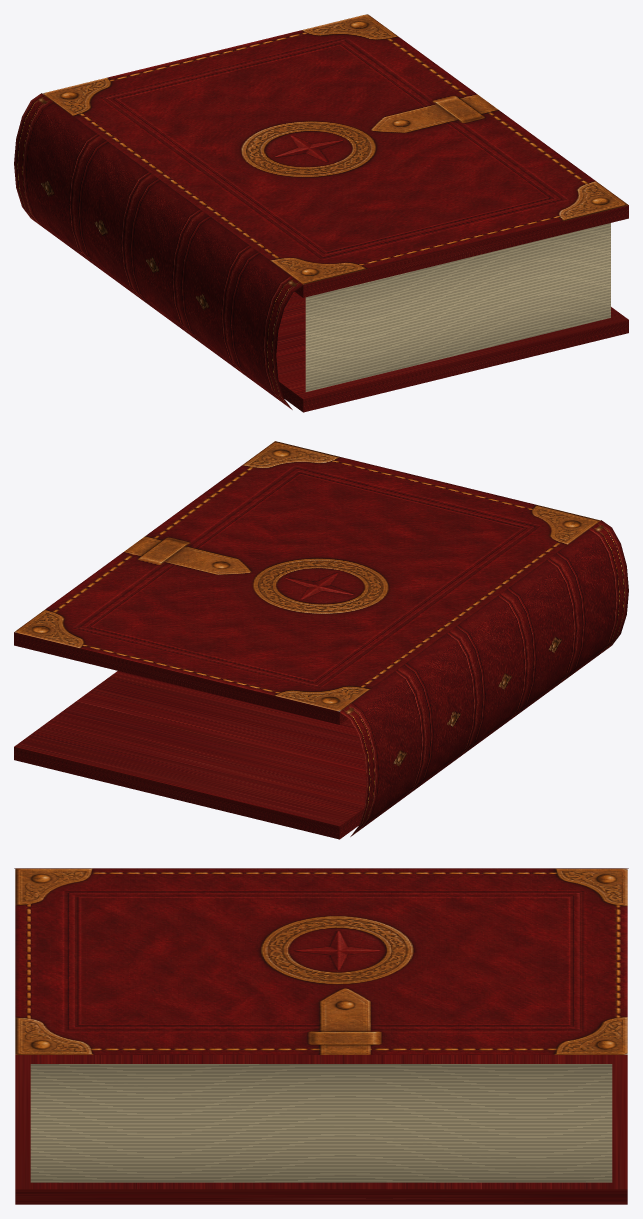
The model's file is item_mm9_spellbook_expert.glb.
3 renders of one model, top to bottom at view 1: azimuth 30°, elevation 25°; view 2: azimuth 150°, elevation 25°; view 3: azimuth 270°, elevation 25°, orthographic. The views are drawn at different scales.
Visible parts, largest first — view 1: mm9_spellbook_expert; view 2: mm9_spellbook_expert; view 3: mm9_spellbook_expert.
Part boxes in pixels (<box>): mm9_spellbook_expert: <box>14,14,628,412</box>; mm9_spellbook_expert: <box>14,441,628,839</box>; mm9_spellbook_expert: <box>14,868,628,1204</box>.
Bounding box in the file's own units: 0.7808 × 0.27 × 1.
1 material, 1 textured.
